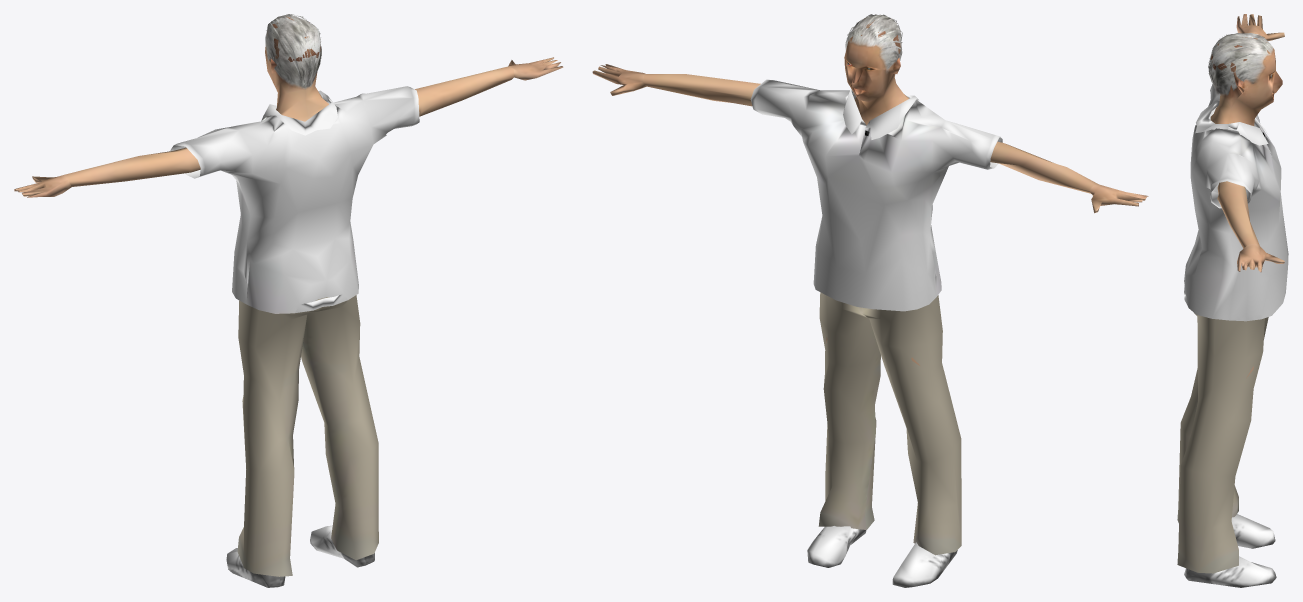
3 views of the same model, side by side, from view 1: azimuth 30°, elevation 25°; view 2: azimuth 150°, elevation 25°; view 3: azimuth 270°, elevation 25° (orthographic). The views are drawn at different scales.
Visible parts, largest first — view 1: mensch; view 2: mensch; view 3: mensch.
Boxes of the visible parts, x1=… form: mensch: x1=14, y1=14, x2=563, y2=587; mensch: x1=592, y1=14, x2=1148, y2=587; mensch: x1=1177, y1=14, x2=1288, y2=587.
Bounding box in the file's own units: 1.83 × 1.76 × 0.3354.
Materials: 1 (1 with a texture image).
